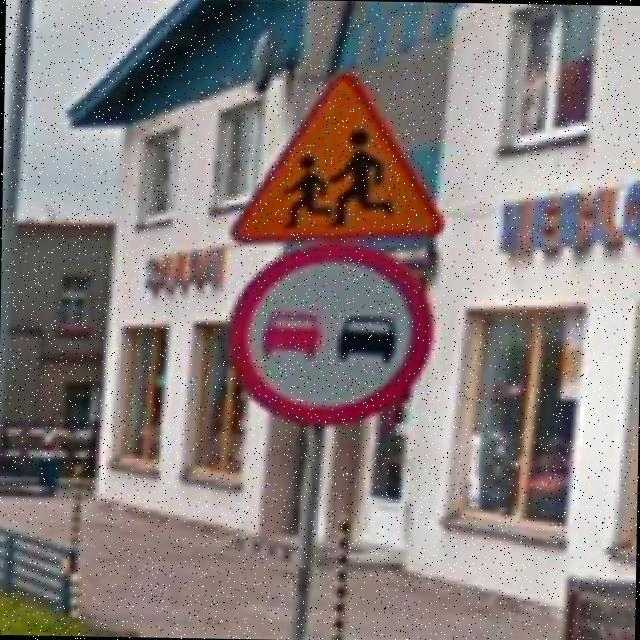Dzieci: (226, 68, 449, 244)
Zakaz wyprzedzania: (221, 240, 437, 428)
